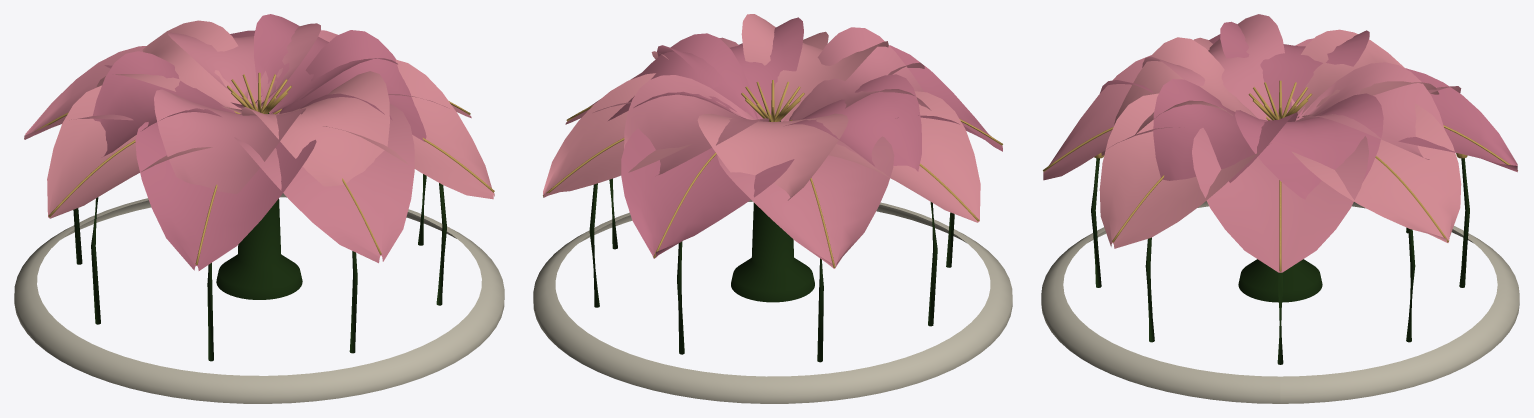
Rendered from pavilion.glb.
3 views of the same model, side by side, from view 1: azimuth 30°, elevation 25°; view 2: azimuth 150°, elevation 25°; view 3: azimuth 270°, elevation 25° (orthographic). The views are drawn at different scales.
Visible parts, largest first — view 1: pavilion_petal, pavilion_stone, pavilion_stem, pavilion_gold; view 2: pavilion_petal, pavilion_stone, pavilion_stem, pavilion_gold; view 3: pavilion_petal, pavilion_stone, pavilion_stem, pavilion_gold.
Part boxes in pixels (x1,y1,x2,y2): pavilion_petal: (24,14,494,270); pavilion_stone: (14,193,504,403); pavilion_stem: (73,113,446,361); pavilion_gold: (24,72,494,264); pavilion_petal: (543,14,1002,268); pavilion_stone: (533,200,1012,403); pavilion_stem: (589,121,954,362); pavilion_gold: (543,80,1002,267); pavilion_petal: (1043,14,1517,272); pavilion_stone: (1041,201,1519,403); pavilion_stem: (1091,158,1469,364); pavilion_gold: (1043,80,1517,271).
Bounding box in the file's own units: 10.8 × 5.9 × 10.8.
